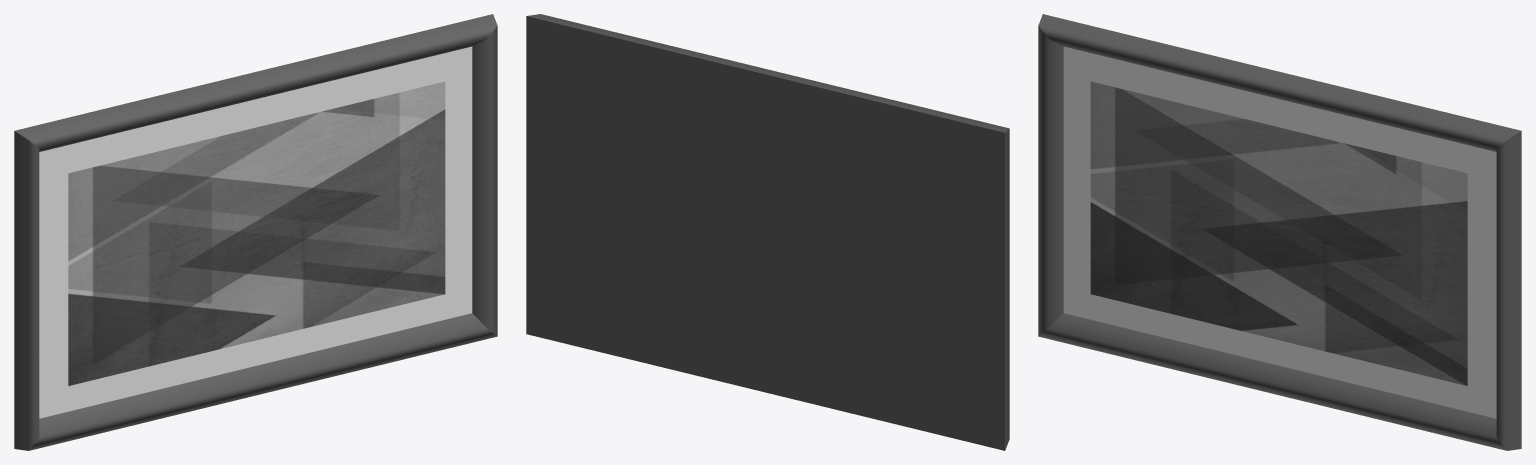
File: picture_005.fbx
3 views of the same model, side by side, from view 1: azimuth 30°, elevation 25°; view 2: azimuth 150°, elevation 25°; view 3: azimuth 330°, elevation 25° (orthographic).
Parts seen in each view (by area): view 1: picture_005; view 2: picture_005; view 3: picture_005.
Part boxes in pixels (bbox=[...]): picture_005: bbox=[14, 14, 497, 450]; picture_005: bbox=[526, 14, 1009, 450]; picture_005: bbox=[1038, 14, 1521, 450].
Size of the model in its own units: 143 by 4.86 by 90.77.
